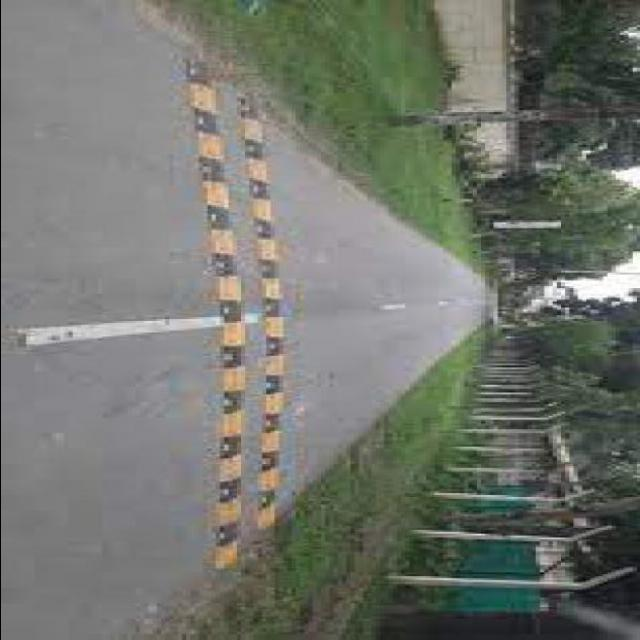speedbreaker: (172, 55, 248, 582), (246, 94, 280, 532)
